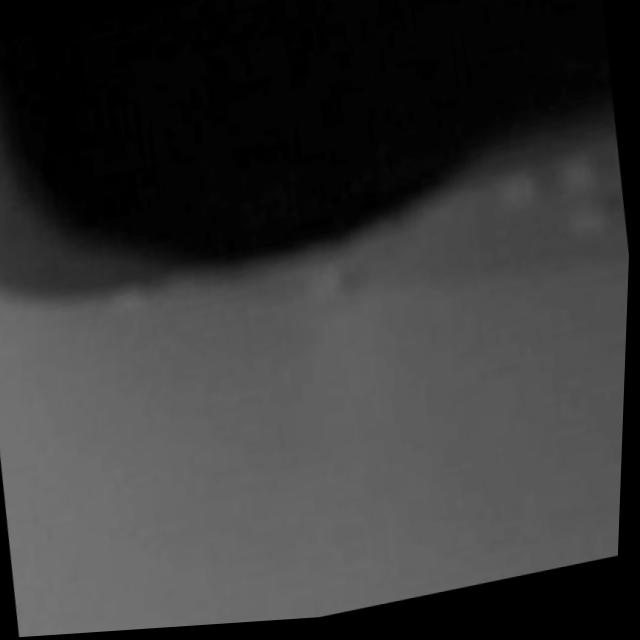braiile: (482, 143, 632, 268)
